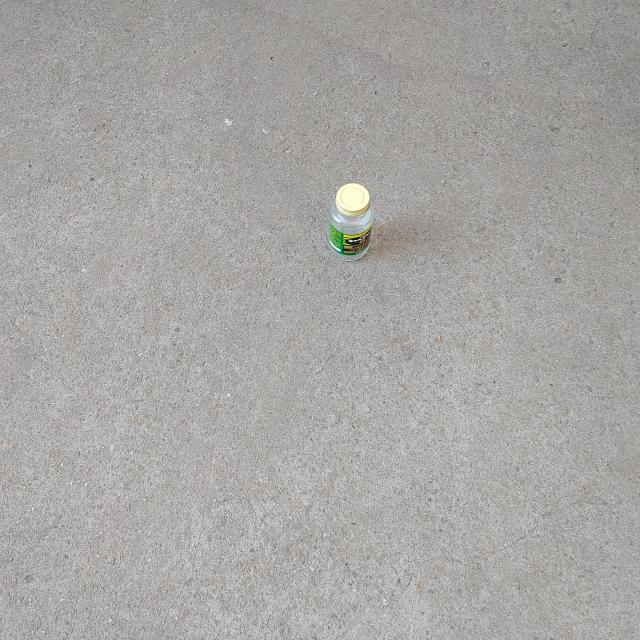glass: (329, 183, 374, 260)
